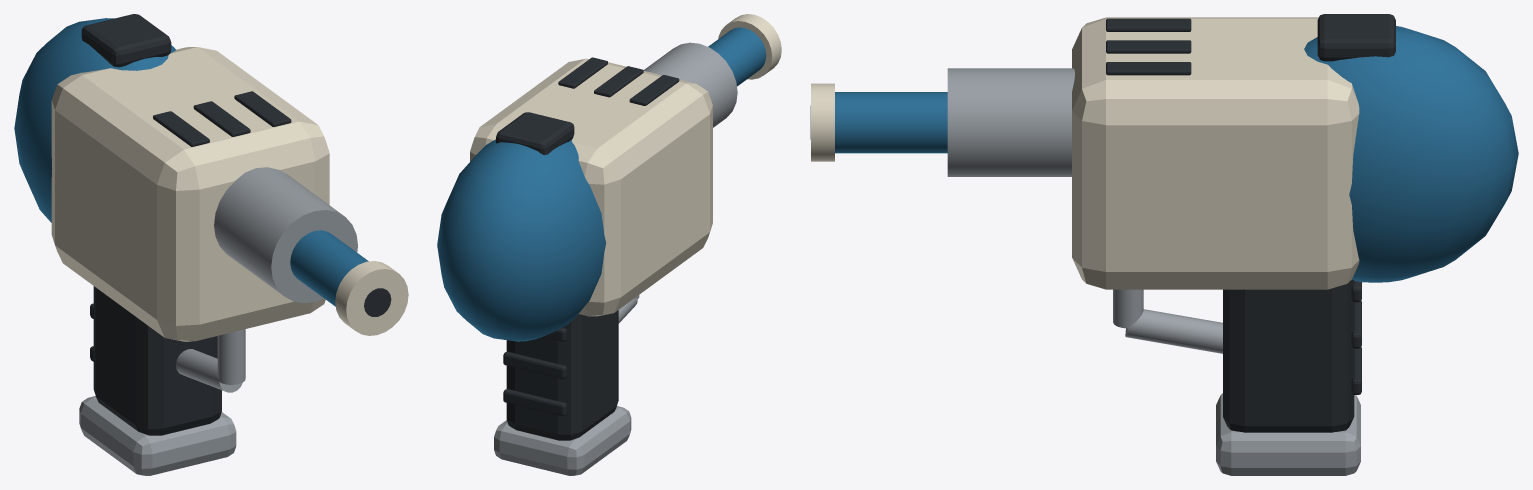
File: balloon_inflator.glb
3 renders of one model, left to right at view 1: azimuth 30°, elevation 25°; view 2: azimuth 150°, elevation 25°; view 3: azimuth 270°, elevation 25°, orthographic. The views are drawn at different scales.
Parts seen in each view (by area): view 1: SM_PumpBody, SM_GripHeel, SM_ErgonomicGrip, SM_PressureTank; view 2: SM_PumpBody, SM_PressureTank, SM_ErgonomicGrip, SM_GripHeel; view 3: SM_PumpBody, SM_PressureTank, SM_ErgonomicGrip, SM_GripHeel.
Boxes of the visible parts, <box> form: SM_PumpBody: <box>51,47,408,341</box>; SM_GripHeel: <box>79,167,357,475</box>; SM_ErgonomicGrip: <box>81,14,391,435</box>; SM_PressureTank: <box>14,18,368,306</box>; SM_PumpBody: <box>470,14,781,316</box>; SM_PressureTank: <box>437,27,766,341</box>; SM_ErgonomicGrip: <box>496,57,679,440</box>; SM_GripHeel: <box>494,42,737,475</box>; SM_PumpBody: <box>811,17,1359,289</box>; SM_PressureTank: <box>835,26,1518,282</box>; SM_ErgonomicGrip: <box>810,14,1395,432</box>; SM_GripHeel: <box>947,68,1360,475</box>.
Bounding box in the file's own units: 0.125 × 0.277 × 0.4155.
